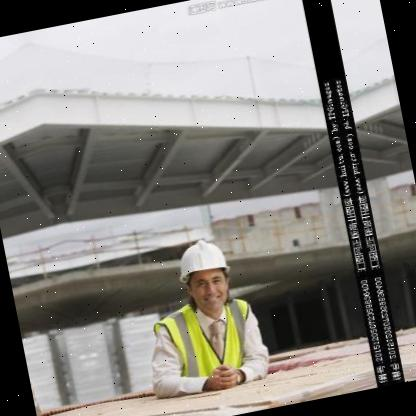capacete: (170, 231, 233, 282)
